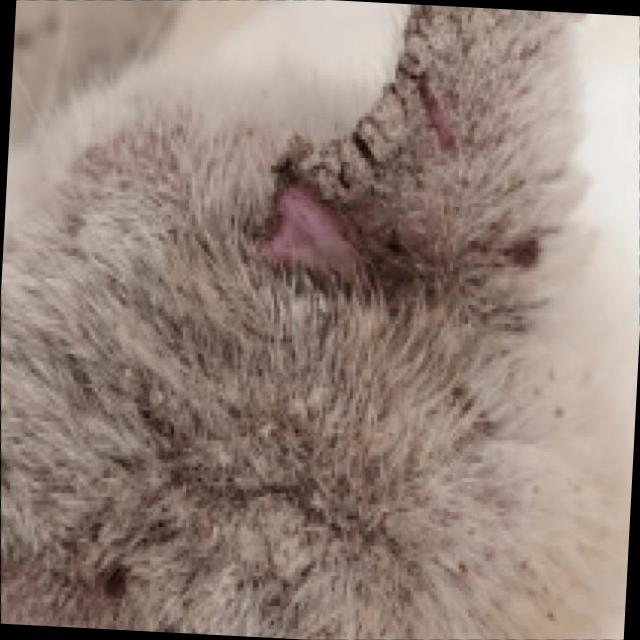Mange: (310, 12, 438, 198), (259, 190, 387, 301), (490, 229, 550, 283), (98, 566, 144, 616), (424, 82, 451, 149), (365, 265, 369, 273)
